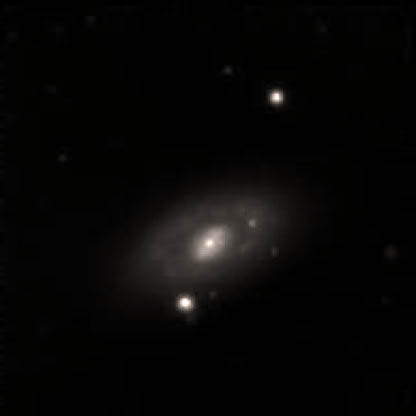NGC 4102: (128, 158, 308, 334)
